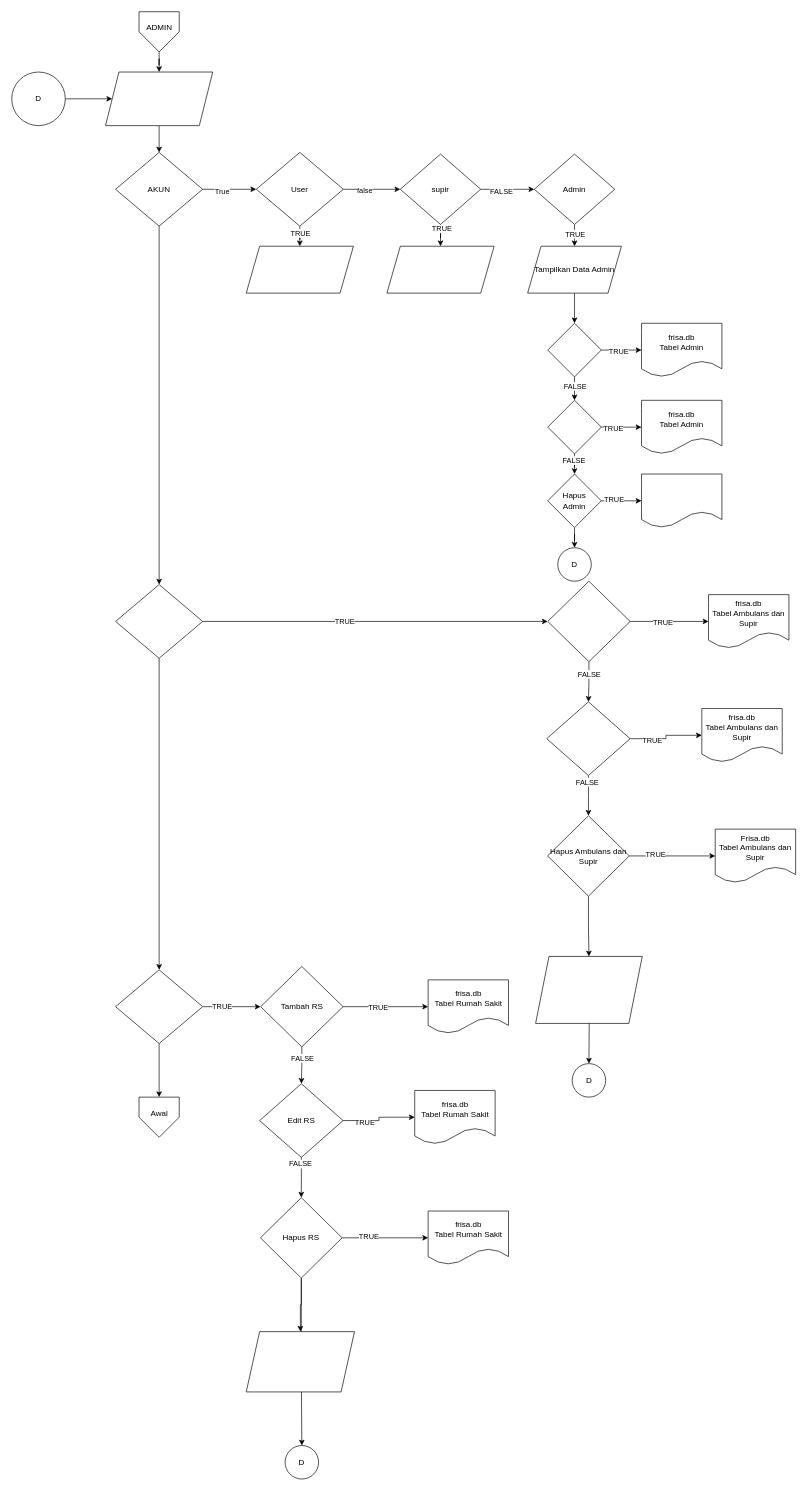
The diagram is 807 pixels wide and 1491 high, and some of its shapes have lost their labels. Each missing label, with the box of its shape:
Ambulans: (115, 584, 203, 658)
DASHBOARD: (105, 71, 213, 126)
Edit Admin: (547, 400, 601, 454)
Edit Ambulans dan Supir: (546, 701, 630, 776)
Frisa.db Tabel Afmin: (641, 473, 722, 528)
RS: (115, 969, 203, 1044)
Tambah Admin: (547, 323, 601, 377)
Tambah Ambulans dan Supir: (547, 581, 630, 662)
Tampilkan Data Supir: (386, 246, 494, 293)
Tampilkan Data User: (246, 246, 353, 293)
Tampilkan Tabel Ambulans dan Supir: (535, 956, 642, 1023)
Tampilkan Tabel RS: (246, 1331, 354, 1392)
